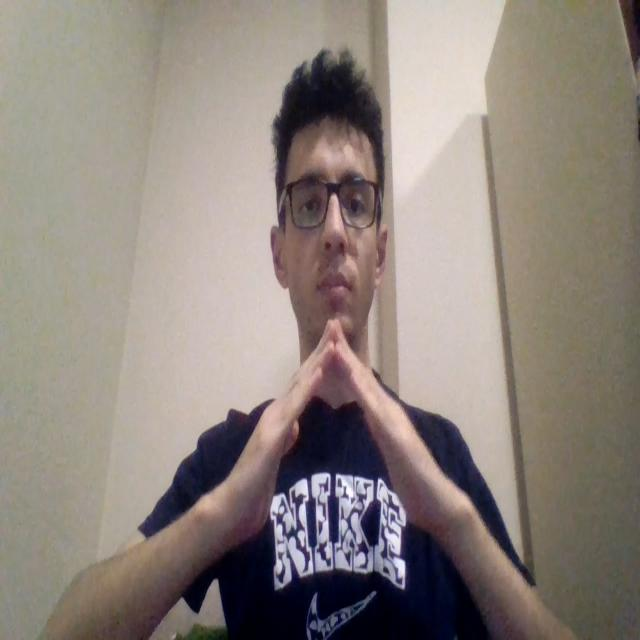house: (222, 319, 435, 528)
